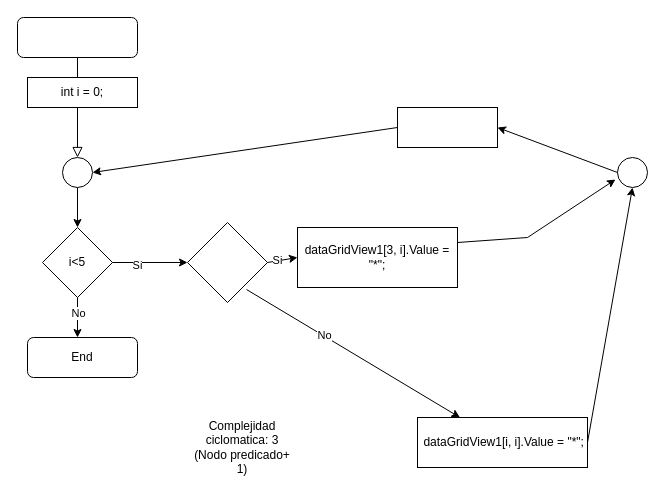
Some shapes in this 665 by 495 pixel diagram are drawn without their labels. Each missing label, with the centre of its shape:
"i++;" goes at (447,127).
"i>3" goes at (227,262).
"Start" goes at (77,37).
